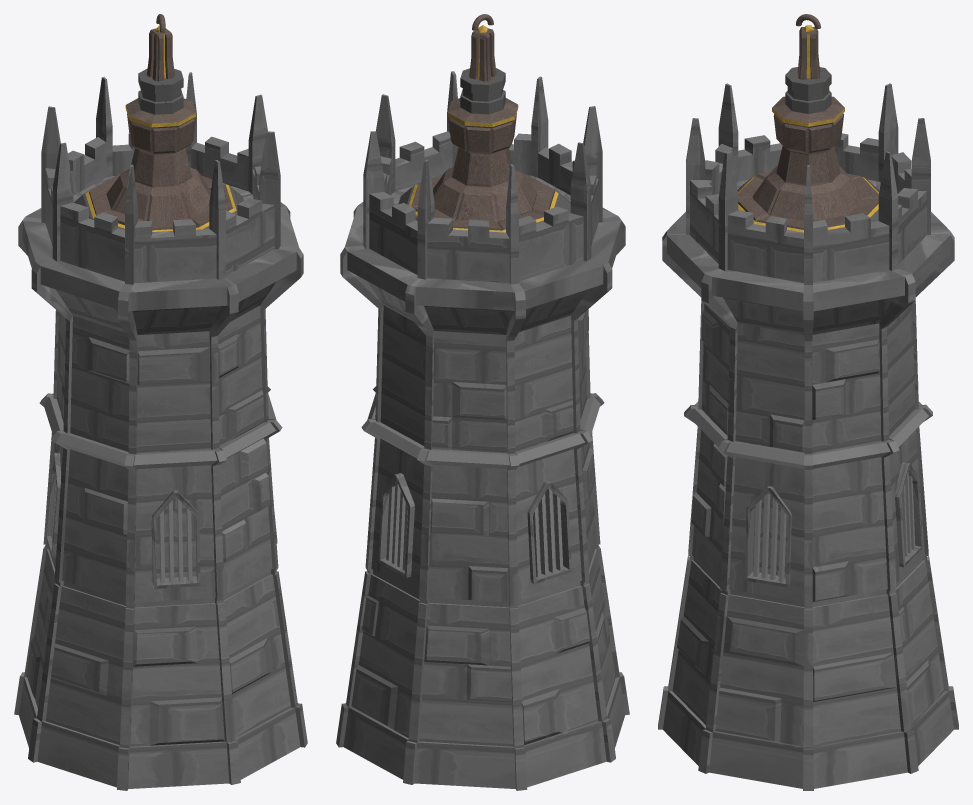
Rendered from att3-speed.fbx.
3 views of the same model, side by side, from view 1: azimuth 30°, elevation 25°; view 2: azimuth 150°, elevation 25°; view 3: azimuth 270°, elevation 25° (orthographic).
Parts seen in each view (by area): view 1: polySurface52; view 2: polySurface52; view 3: polySurface52.
Part boxes in pixels (box(x1,y1,x2,y2)): polySurface52: box(14, 14, 307, 790); polySurface52: box(336, 14, 629, 790); polySurface52: box(658, 14, 958, 790).
Bounding box in the file's own units: 13.87 × 36.26 × 13.87.
5 materials, 4 textured.
